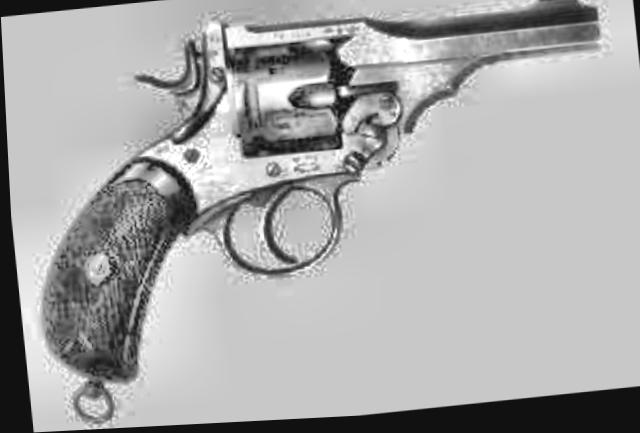pistol: (7, 0, 627, 386)
